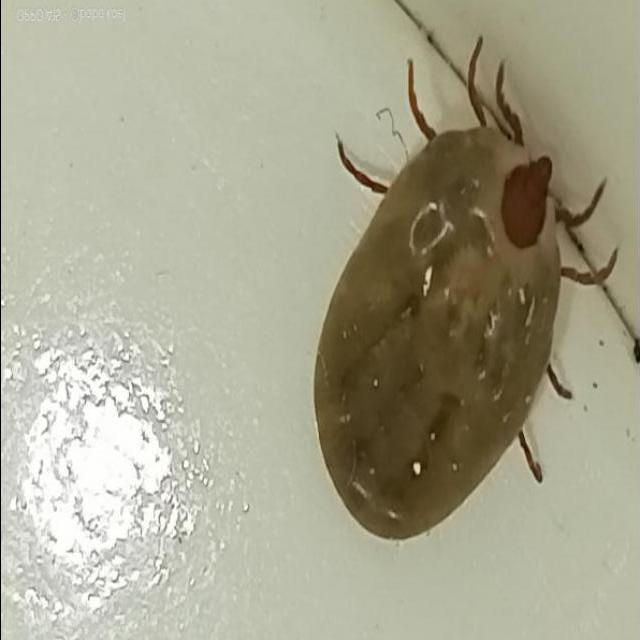Rhipicephalus Sanguineus-F-Fed: (313, 34, 619, 540)
